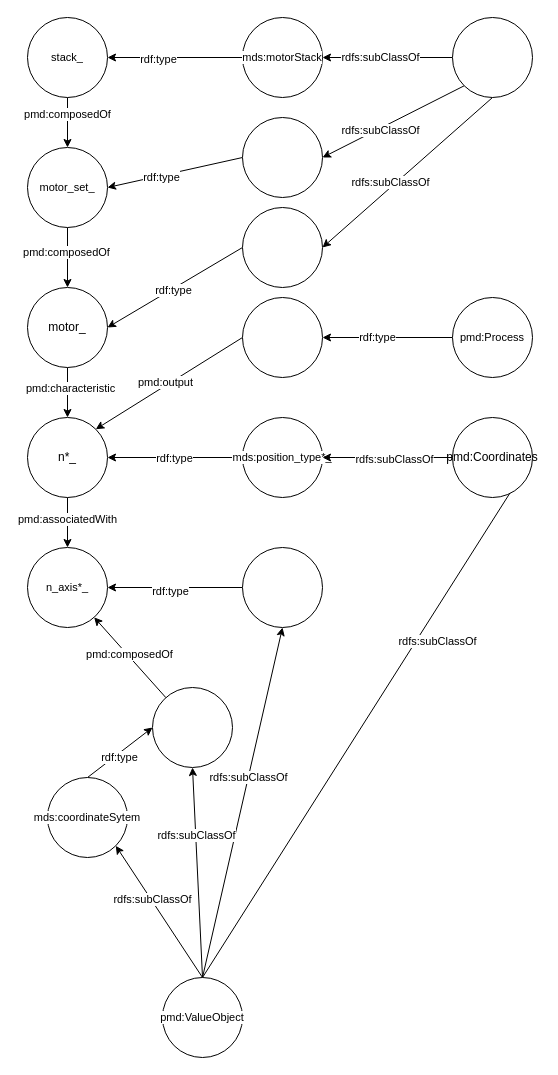
The diagram is 558 pixels wide and 1075 high, and some of its shapes have lost their labels. The shapes that lost their labels are listed below. From the top down, each one's centre as x and y in pixels, then its label:
the point at 492,57: pmd:Object
the point at 282,157: mds:motorSet
the point at 282,247: mds:motor
the point at 282,337: motion_process*_
the point at 282,587: mds:axis
the point at 192,727: coordinate_system*_
